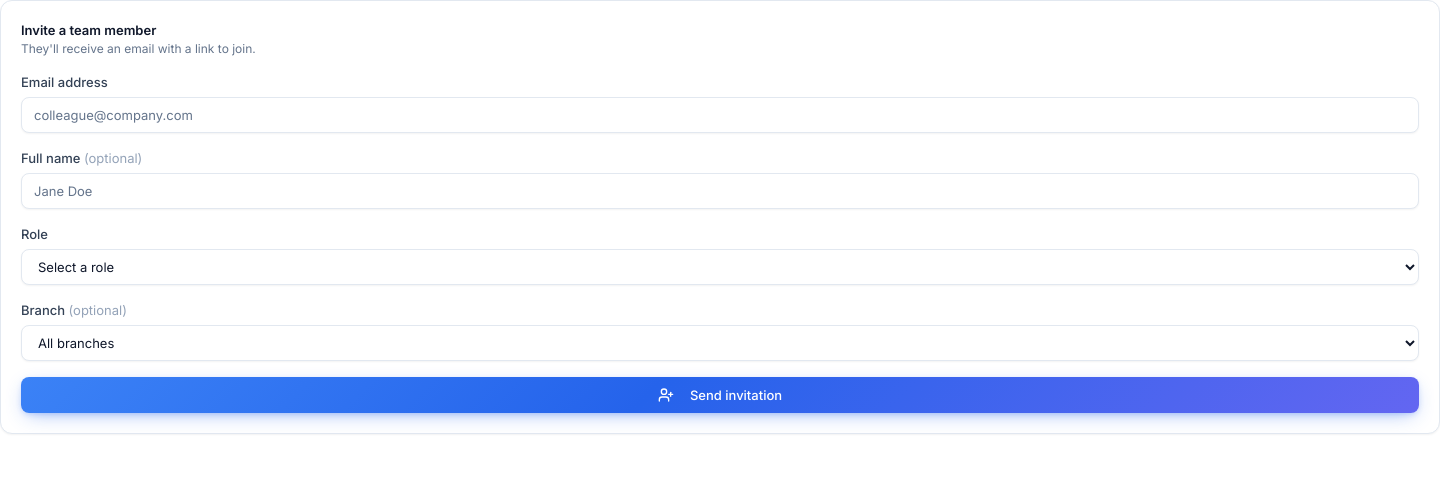
Scenario: InviteUserForm › shows validation errors and does not submit when required fields are empty
The image size is (1440, 495).
What coordinates should you click on to do the following:
click the button "Send invitation"
I would click on:
 (720, 395)
Its box is x1=21 y1=377 x2=1419 y2=413.
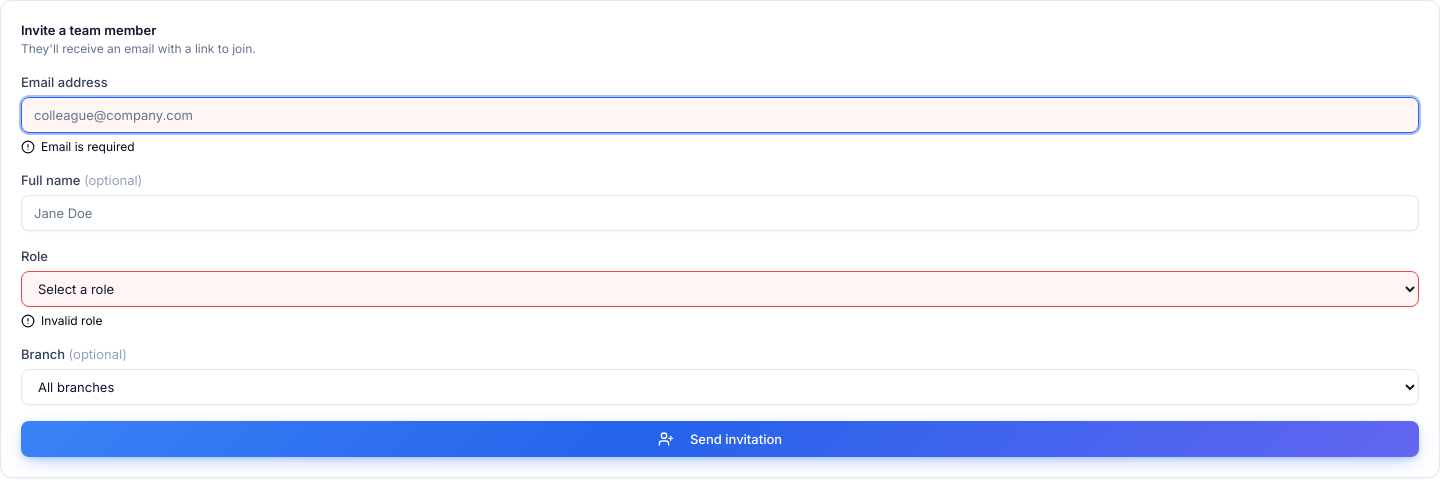
Result: the text "Email is required" is shown at x1=21 y1=139 x2=135 y2=154
